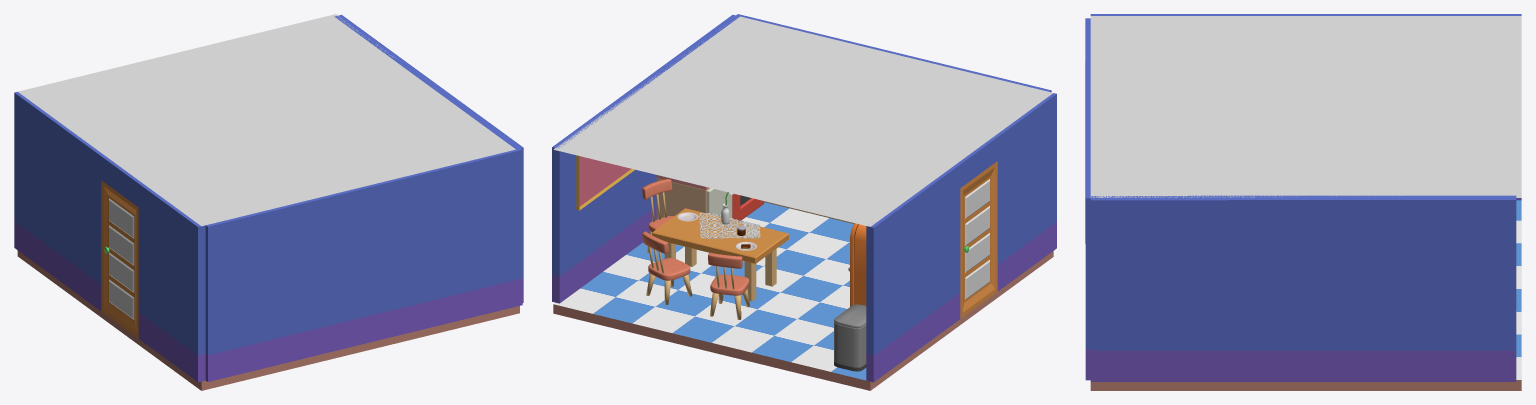
Rendered from oda3mutfak.fbx.
The picture shows the model from 3 angles, left to right: view 1: azimuth 30°, elevation 25°; view 2: azimuth 150°, elevation 25°; view 3: azimuth 270°, elevation 25°; orthographic projection. The views are drawn at different scales.
Parts seen in each view (by area): view 1: mutfaktavan, mutfak_duvar.010, mutfak_duvar.001, mutfak_duvar.002, kapi_1.002, mutfak_zemin.002, mutfak_duvar.009, mutfak_duvar.003; view 2: mutfaktavan, mutfak_zemin.002, mutfak_duvar.001, mutfak_duvar.009, mutfak_duvar.002, kapi_1.002, masa.001, tezgah2, copkovasi, mutfaktablo, sandalyeler.002, sandalyeler.001 (+5 smaller); view 3: mutfak_duvar.009, mutfaktavan, mutfak_zemin.002, mutfak_duvar.010, mutfak_duvar.001.
Boxes of the visible parts, bbox=[...] form: mutfaktavan: bbox=[18, 14, 515, 226]; mutfak_duvar.010: bbox=[205, 148, 522, 381]; mutfak_duvar.001: bbox=[14, 91, 104, 310]; mutfak_duvar.002: bbox=[138, 183, 205, 382]; kapi_1.002: bbox=[101, 180, 138, 338]; mutfak_zemin.002: bbox=[17, 250, 519, 390]; mutfak_duvar.009: bbox=[334, 14, 523, 302]; mutfak_duvar.003: bbox=[101, 155, 141, 206]; mutfaktavan: bbox=[554, 16, 1052, 226]; mutfak_zemin.002: bbox=[553, 202, 1053, 390]; mutfak_duvar.001: bbox=[866, 163, 960, 382]; mutfak_duvar.009: bbox=[552, 14, 739, 303]; mutfak_duvar.002: bbox=[995, 93, 1056, 291]; kapi_1.002: bbox=[960, 161, 997, 318]; masa.001: bbox=[652, 208, 788, 301]; tezgah2: bbox=[656, 175, 764, 220]; copkovasi: bbox=[834, 304, 866, 371]; mutfaktablo: bbox=[576, 155, 634, 210]; sandalyeler.002: bbox=[708, 252, 749, 319]; sandalyeler.001: bbox=[642, 231, 692, 304]; mutfak_duvar.009: bbox=[1090, 195, 1516, 381]; mutfaktavan: bbox=[1090, 16, 1521, 197]; mutfak_zemin.002: bbox=[1090, 200, 1521, 390]; mutfak_duvar.010: bbox=[1085, 18, 1090, 380]; mutfak_duvar.001: bbox=[1317, 14, 1521, 200].
Bounding box in the file's own units: 8.58 × 4.13 × 8.46.
